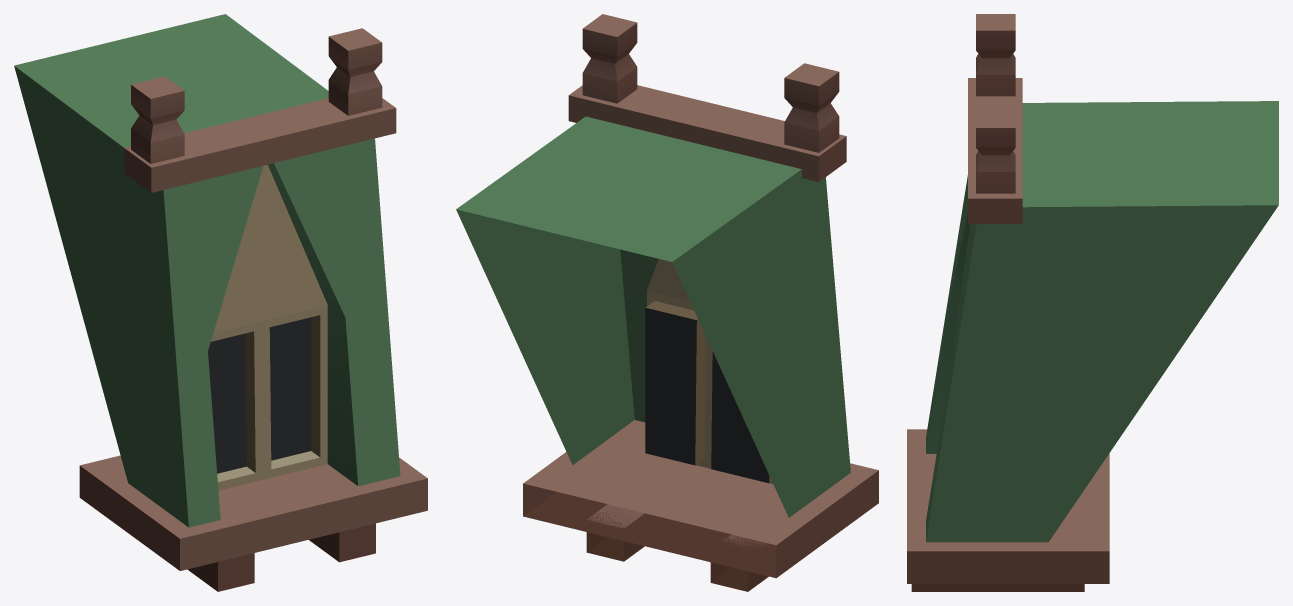
File: SF_Bld_Elven_HouseAdd_Roof_02.fbx
3 renders of one model, left to right at view 1: azimuth 30°, elevation 25°; view 2: azimuth 150°, elevation 25°; view 3: azimuth 270°, elevation 25°, orthographic. The views are drawn at different scales.
Parts seen in each view (by area): view 1: SF_Bld_Elven_HouseAdd_Roof_02; view 2: SF_Bld_Elven_HouseAdd_Roof_02; view 3: SF_Bld_Elven_HouseAdd_Roof_02.
Part boxes in pixels (x1=…): SF_Bld_Elven_HouseAdd_Roof_02: x1=14, y1=14, x2=427, y2=591; SF_Bld_Elven_HouseAdd_Roof_02: x1=456, y1=14, x2=878, y2=591; SF_Bld_Elven_HouseAdd_Roof_02: x1=907, y1=14, x2=1278, y2=591.
Size of the model in its own units: 3.01 by 5.55 by 3.87.
